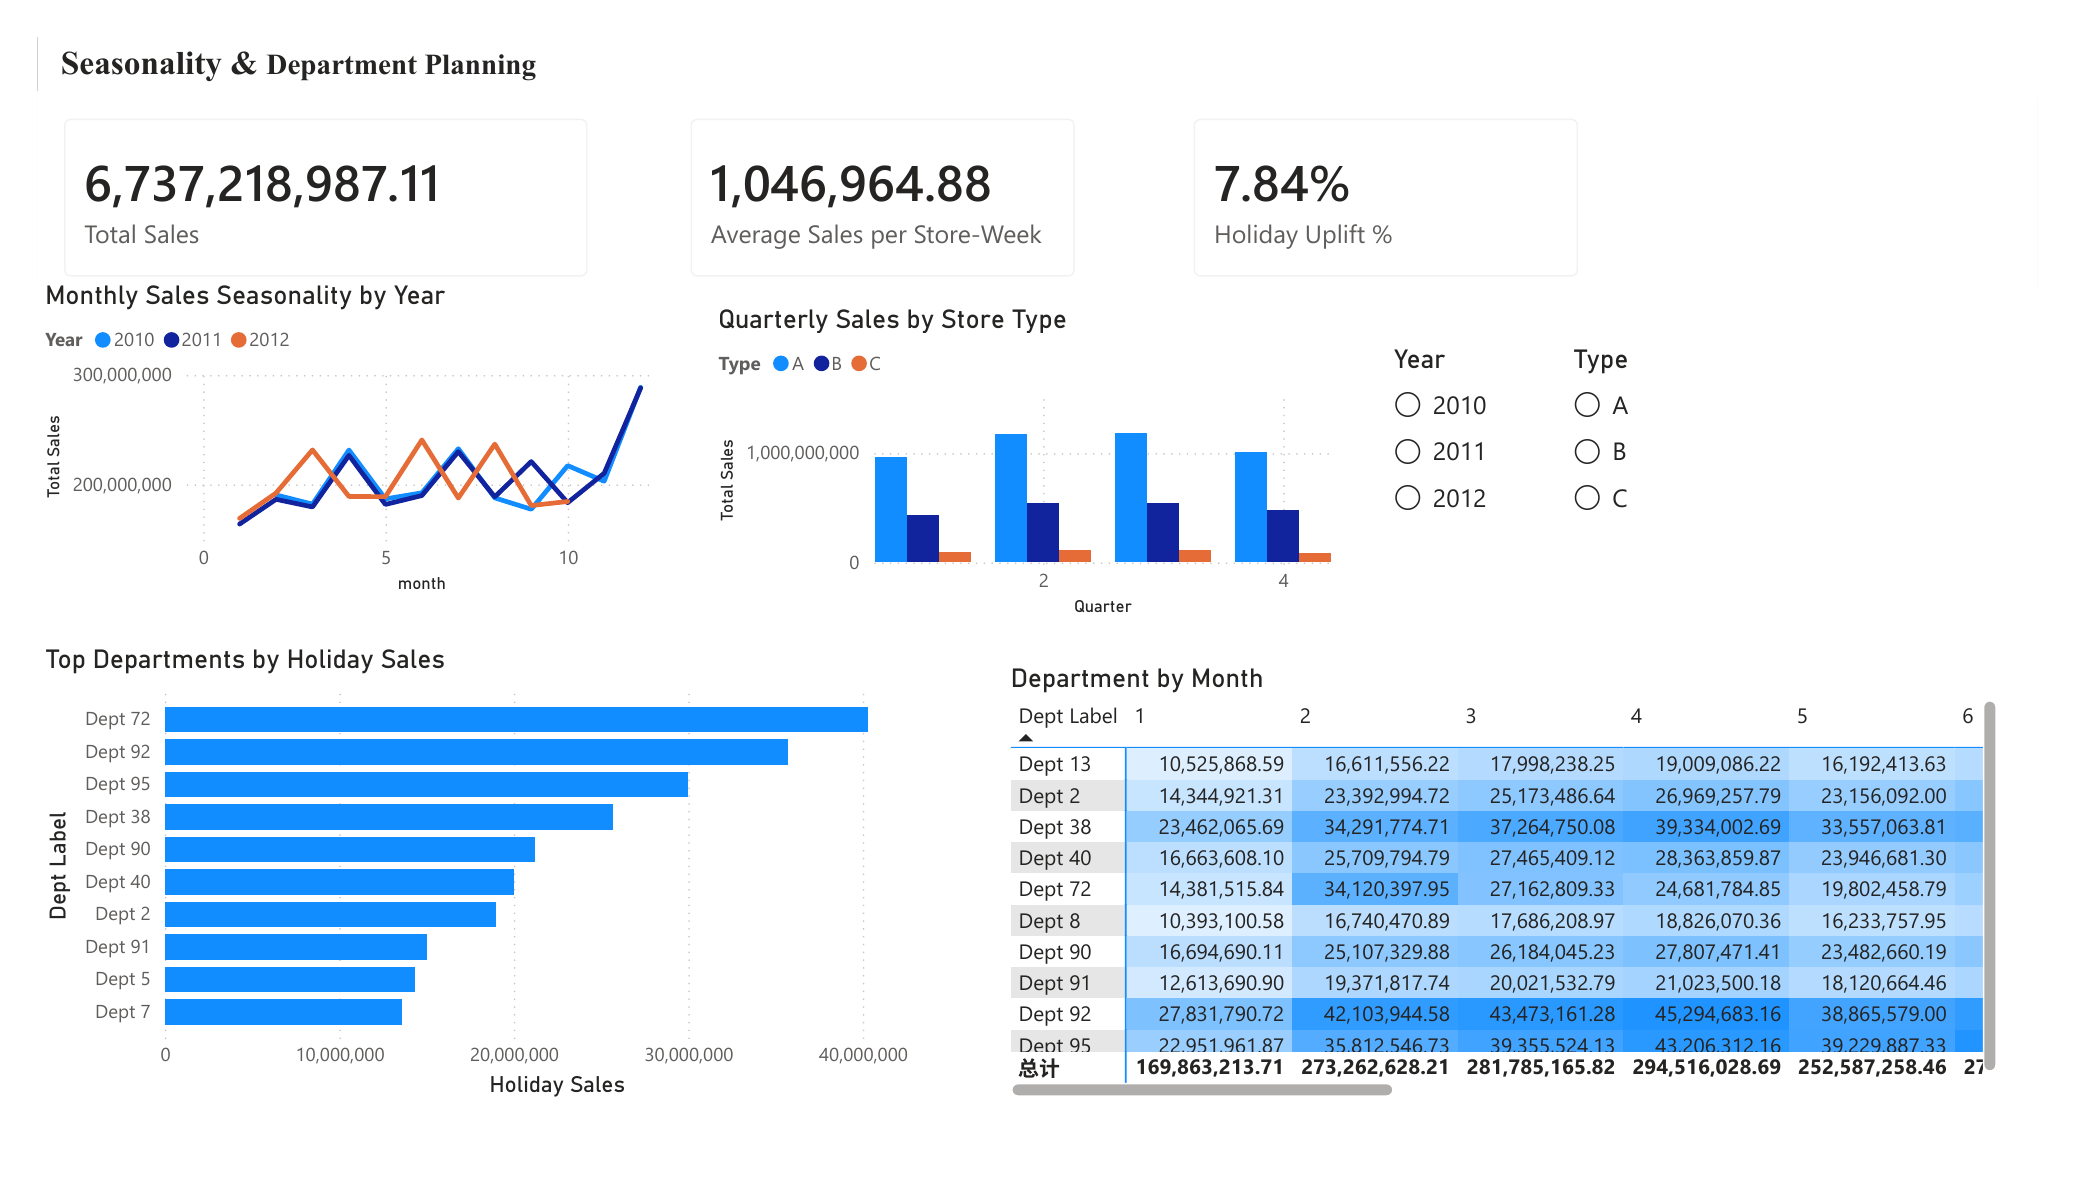

Layout of this report page (visuals, bound fields, positions):
{"tool":"powerbi","page":{"name":"Page 3","canvas":[1280,720],"ordinal":2},"visuals":[{"type":"textbox","box":[10,0,343.8,35],"z":0},{"type":"cardVisual","fields":{"Data":["features.Total Sales"]},"box":[0,35,368.8,135],"z":1000},{"type":"cardVisual","fields":{"Data":["features.Average Sales per Store-Week"]},"box":[401.2,35,280,135],"z":2000},{"type":"cardVisual","fields":{"Data":["features.Holiday Uplift %"]},"box":[722.5,35,280,135],"z":3000},{"type":"lineChart","title":"Monthly Sales Seasonality by Year","fields":{"Category":["features.month"],"Y":["features.Total Sales"],"Series":["features.Year"]},"box":[0,155,401.2,205],"z":4000},{"type":"clusteredColumnChart","title":"Quarterly Sales by Store Type","fields":{"Category":["features.Quarter"],"Y":["features.Total Sales"],"Series":["stores.Type"]},"box":[431.2,170,401.2,205],"z":5000},{"type":"pivotTable","title":"Department by Month","fields":{"Rows":["train.Dept Label"],"Columns":["train.Month"],"Values":["features.Total Sales"]},"box":[617.5,400,641.2,282.5],"z":6000},{"type":"listSlicer","fields":{"Values":["features.Year"]},"box":[862.5,196.2,115,163.8],"z":7000},{"type":"listSlicer","fields":{"Values":["stores.Type"]},"box":[977.5,196.2,110,153.8],"z":8000},{"type":"clusteredBarChart","title":"Top Departments by Holiday Sales","fields":{"Y":["features.Holiday Sales"],"Category":["train.Dept Label"]},"box":[0,387.5,617.5,295],"z":9000}]}

Visuals, with their boxes on the page's 1280x720 design canvas (x1, y1, x2, y2). These are canvas units, not pixel positions in the 2075x1200 screenshot, which may show the page scaled, cropped or inside an application window:
textbox: [left=10, top=0, right=354, bottom=35]
cardVisual - features.Total Sales: [left=0, top=35, right=369, bottom=170]
cardVisual - features.Average Sales per Store-Week: [left=401, top=35, right=681, bottom=170]
cardVisual - features.Holiday Uplift %: [left=722, top=35, right=1002, bottom=170]
"Monthly Sales Seasonality by Year" lineChart: [left=0, top=155, right=401, bottom=360]
"Quarterly Sales by Store Type" clusteredColumnChart: [left=431, top=170, right=832, bottom=375]
"Department by Month" pivotTable: [left=618, top=400, right=1259, bottom=682]
listSlicer - features.Year: [left=862, top=196, right=978, bottom=360]
listSlicer - stores.Type: [left=978, top=196, right=1088, bottom=350]
"Top Departments by Holiday Sales" clusteredBarChart: [left=0, top=388, right=618, bottom=682]
